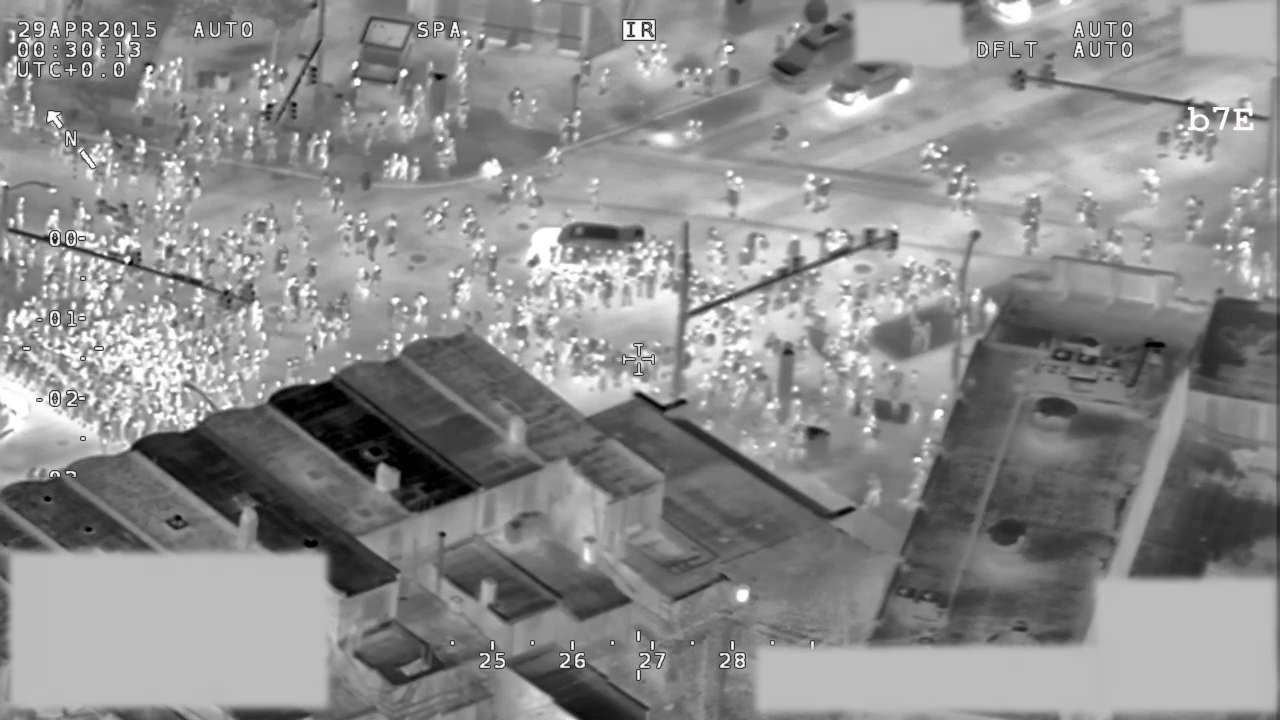vehicle: (766, 12, 858, 94), (526, 214, 654, 272), (821, 63, 920, 113)
